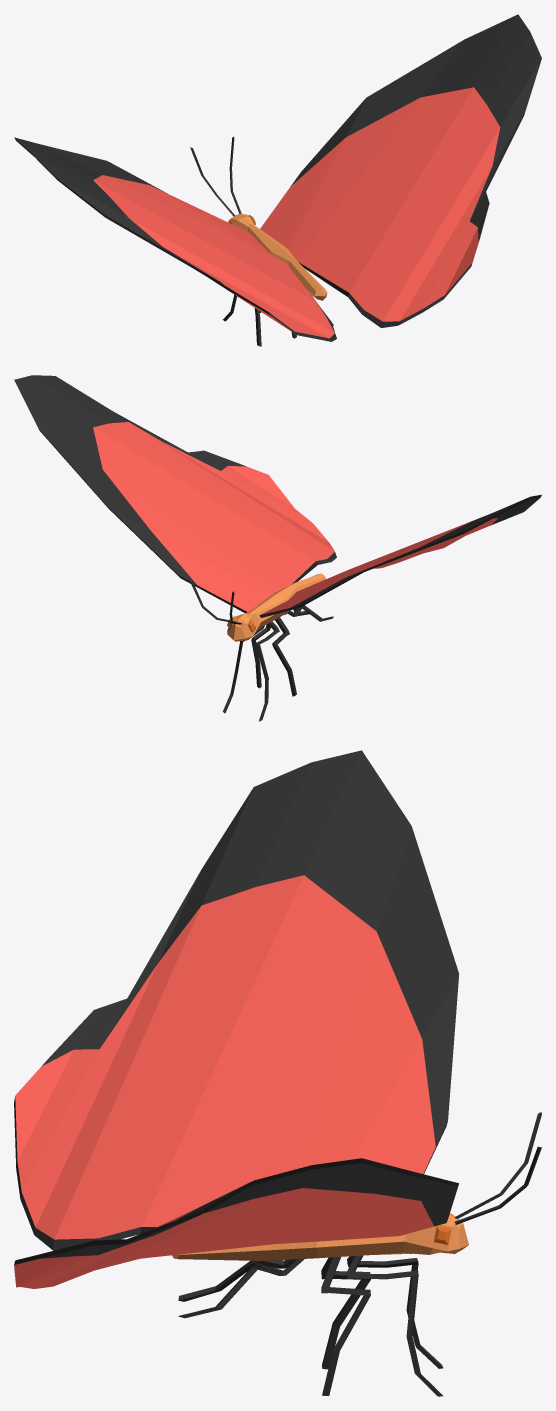
File: SM_Butterfly.fbx
3 views of the same model, one above another, from view 1: azimuth 30°, elevation 25°; view 2: azimuth 150°, elevation 25°; view 3: azimuth 270°, elevation 25° (orthographic). The views are drawn at different scales.
Visible parts, largest first — view 1: Butterfly; view 2: Butterfly; view 3: Butterfly.
Boxes of the visible parts, x1,y1,x2,y2 form: Butterfly: (14, 14, 541, 346); Butterfly: (14, 375, 541, 721); Butterfly: (14, 750, 541, 1396).
Bounding box in the file's own units: 415 × 203 × 227.
